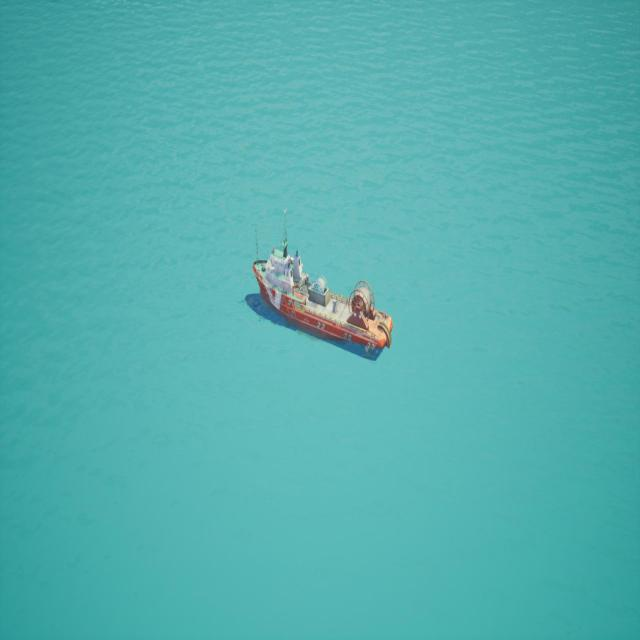tug boat: (246, 228, 394, 366)
